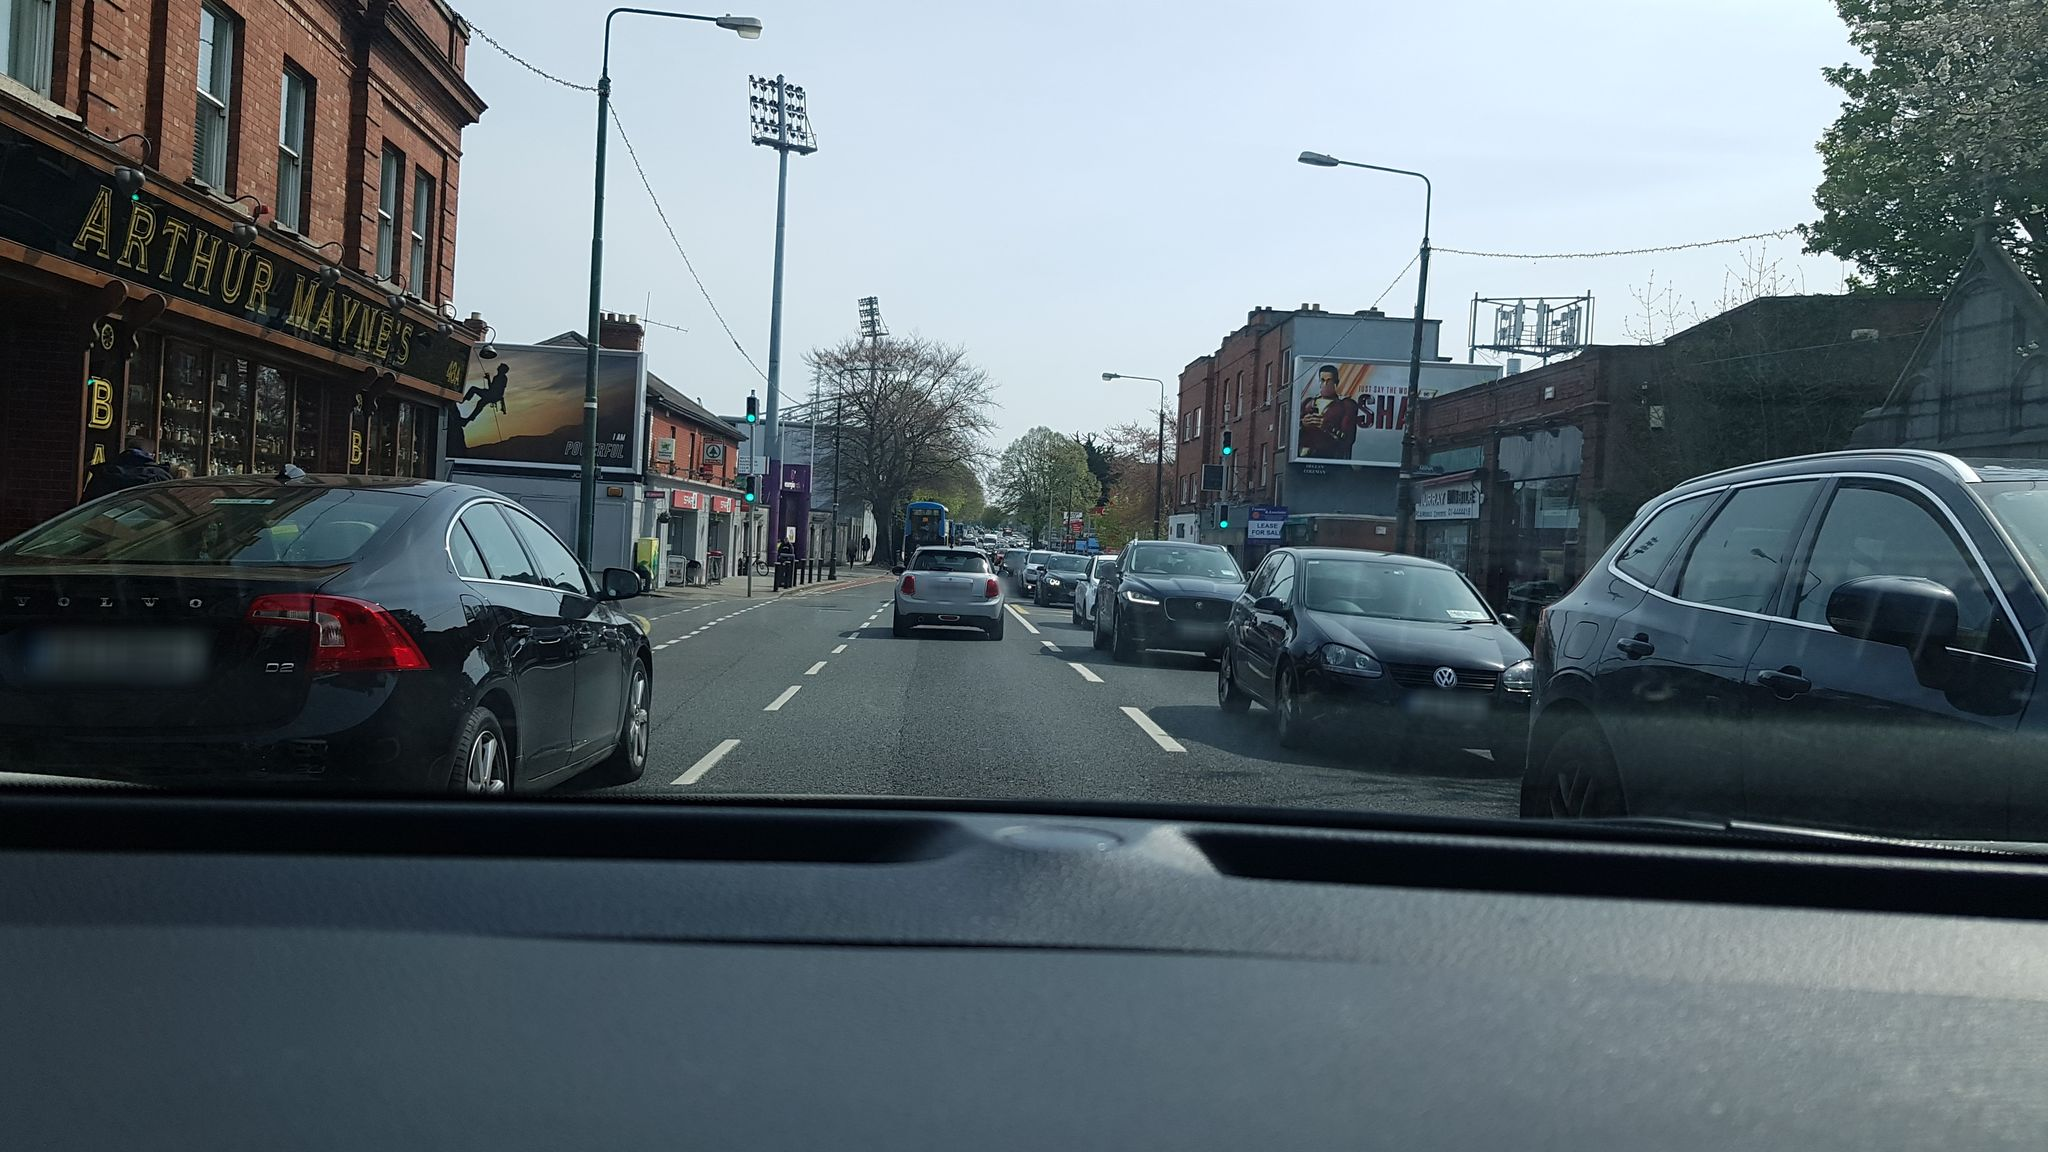property sign: (1242, 495, 1303, 558)
